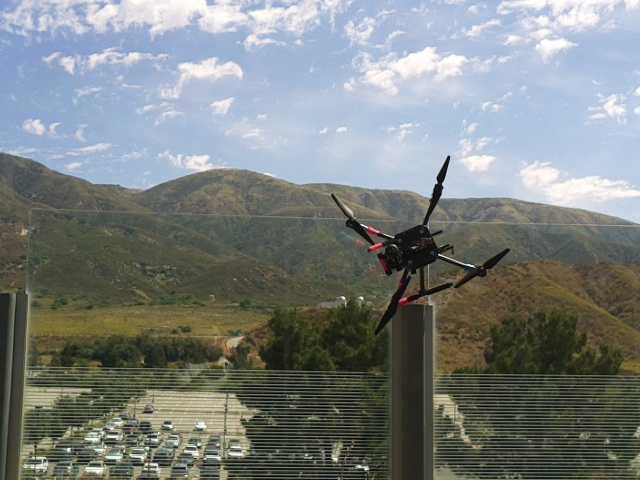quadcopter: (333, 148, 515, 339)
